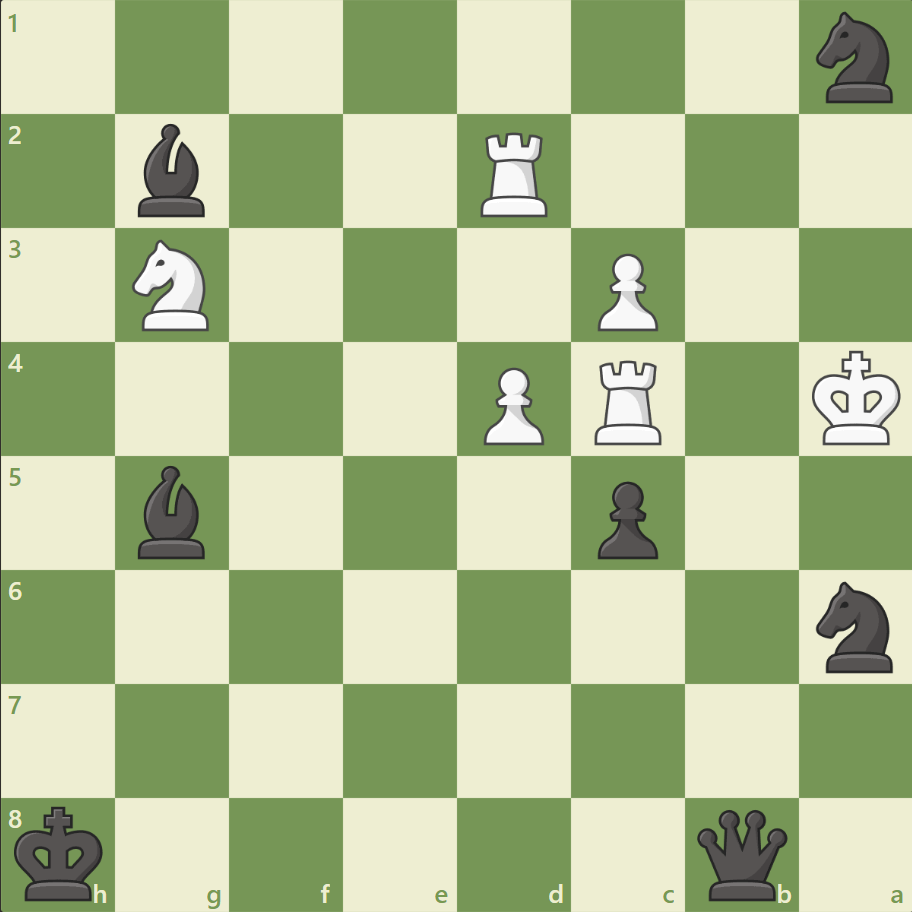K: (806, 344, 906, 452)
N: (124, 234, 222, 337)
P: (474, 359, 549, 450), (588, 246, 662, 337)
R: (587, 352, 670, 449), (473, 125, 556, 222)
b: (131, 460, 215, 563), (131, 120, 215, 222)
k: (11, 798, 111, 906)
n: (806, 7, 903, 110), (806, 575, 903, 677)
p: (588, 473, 662, 564)
q: (691, 804, 790, 903)
